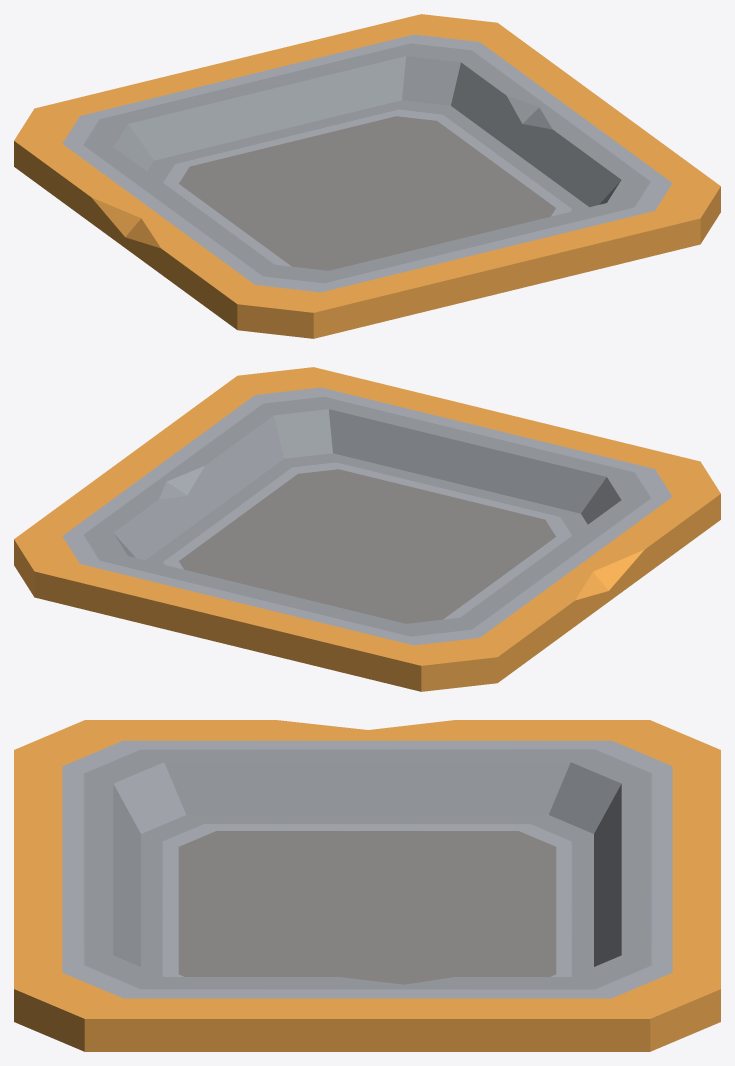
The model's file is SM_Prop_Plates_03.fbx.
The picture shows the model from 3 angles, top to bottom: view 1: azimuth 30°, elevation 25°; view 2: azimuth 150°, elevation 25°; view 3: azimuth 270°, elevation 25°; orthographic projection. The views are drawn at different scales.
Parts seen in each view (by area): view 1: SM_Prop_Plates_03; view 2: SM_Prop_Plates_03; view 3: SM_Prop_Plates_03.
Boxes of the visible parts, x1,y1,x2,y2 form: SM_Prop_Plates_03: (14, 14, 720, 338); SM_Prop_Plates_03: (14, 367, 720, 691); SM_Prop_Plates_03: (14, 720, 720, 1051).
Bounding box in the file's own units: 42.21 × 4.63 × 42.21.
